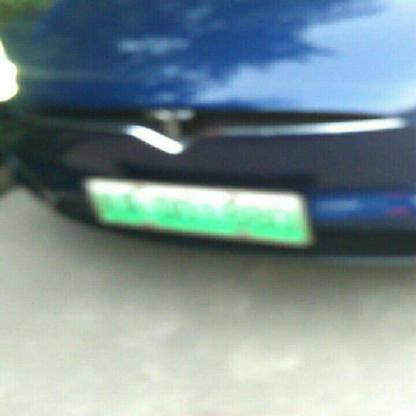lp: (85, 182, 304, 242)
